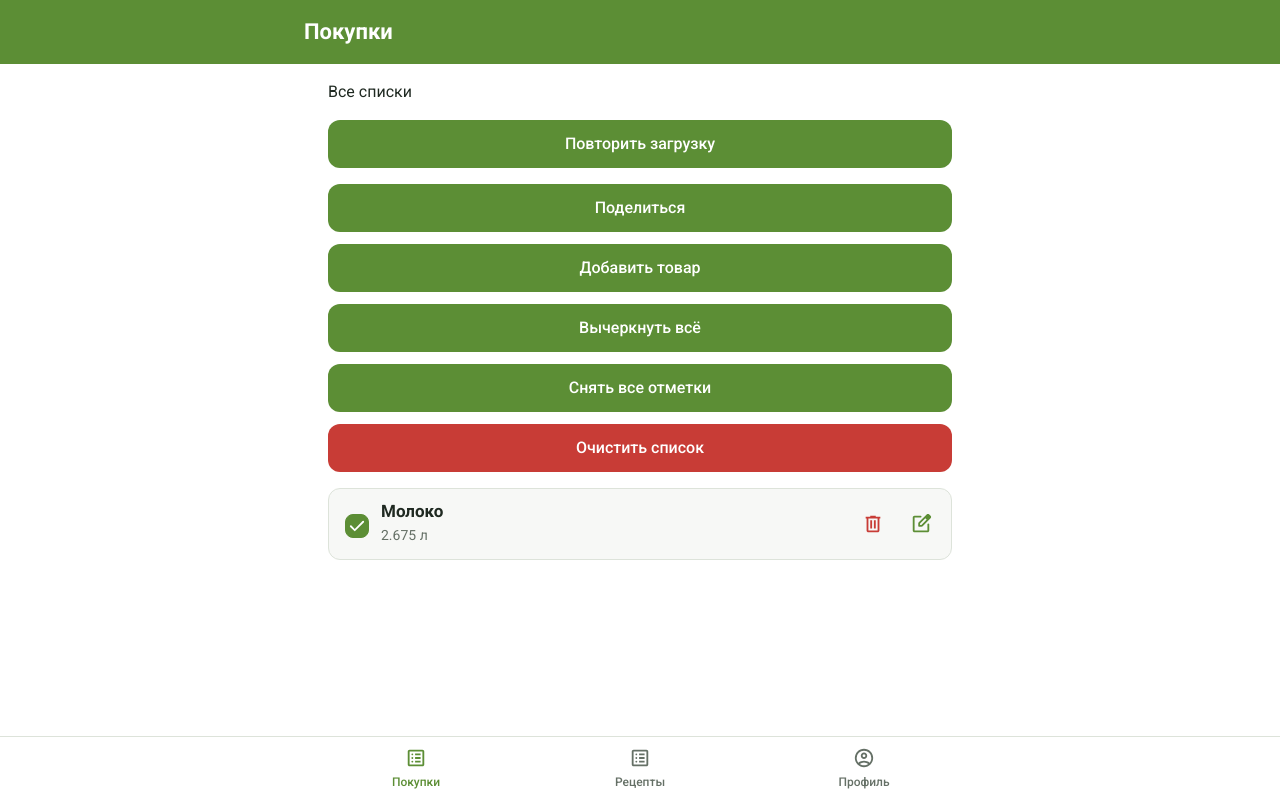
it: Создание ссылки › при отказе clipboard оставляет готовую ссылку для ручного копирования
Click the button "Поделиться".
click(640, 208)  # box left=328, top=184, right=952, bottom=232
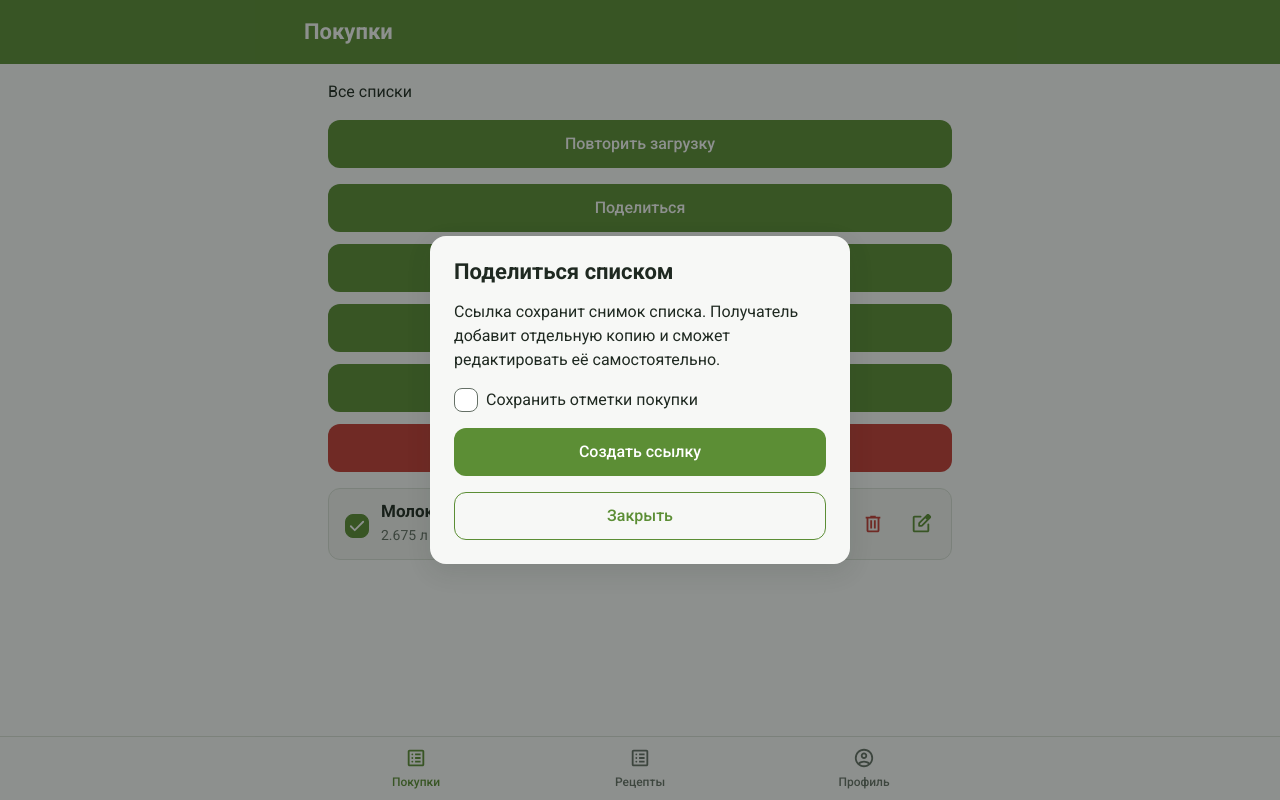
Click the button "Создать ссылку".
click(640, 452)  # box left=454, top=428, right=826, bottom=476
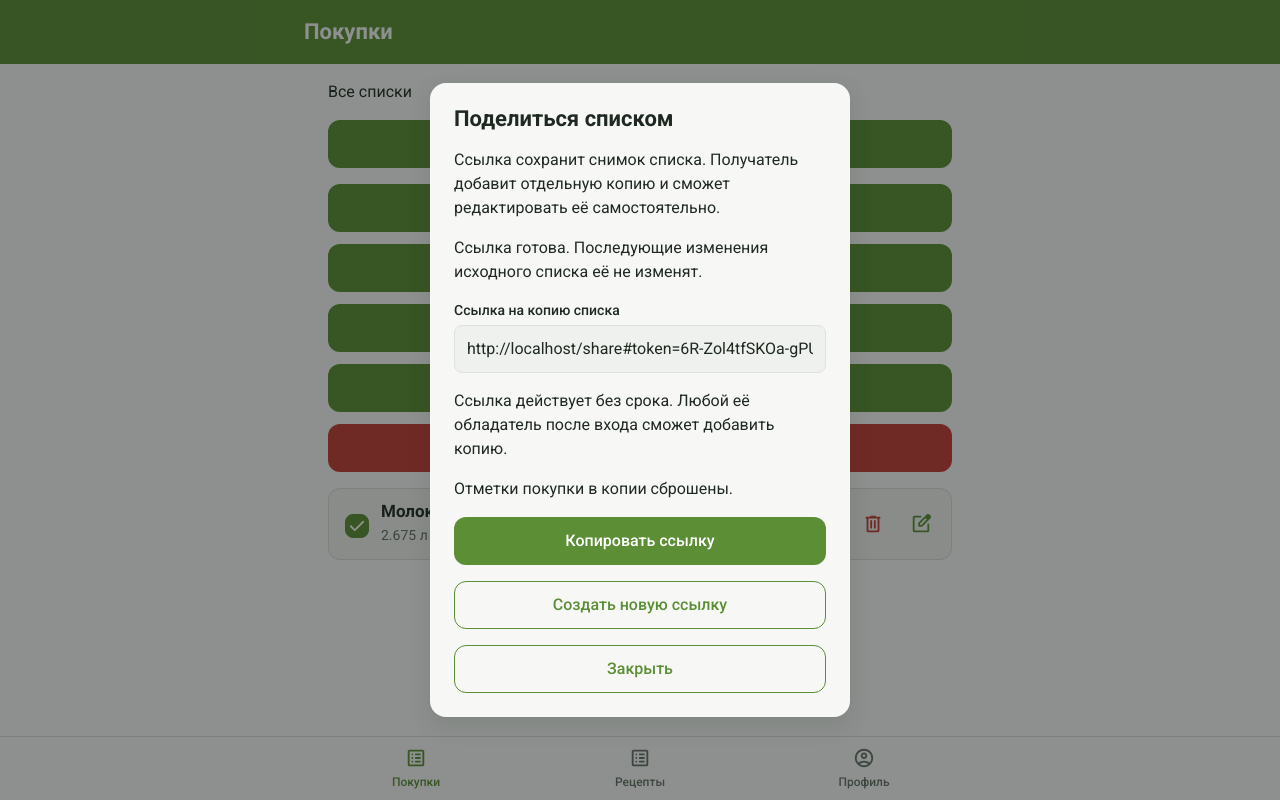
Click the button "Копировать ссылку".
click(640, 541)  # box left=454, top=517, right=826, bottom=565
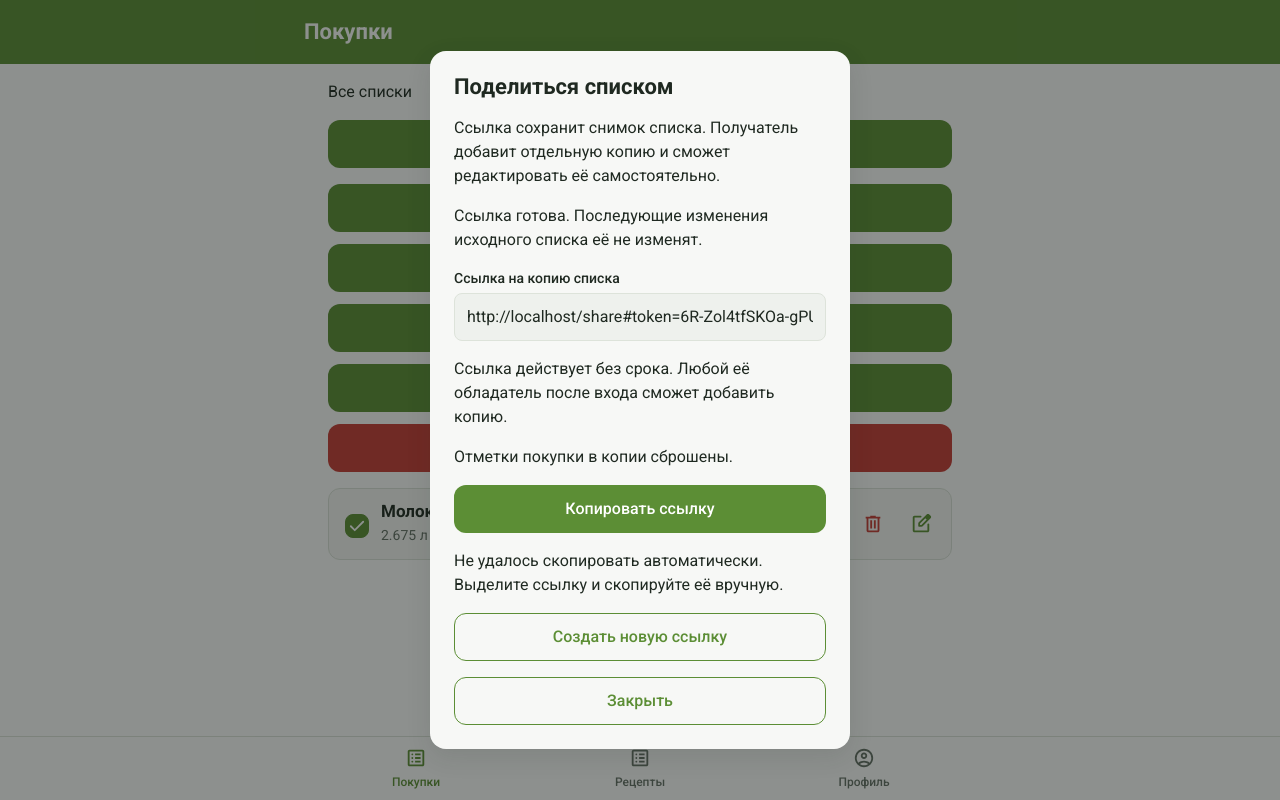
expect the text "Не удалось скопировать автоматически. Выделите ссылку и скопируйте её вручную." is shown: met, box left=454, top=549, right=826, bottom=597
